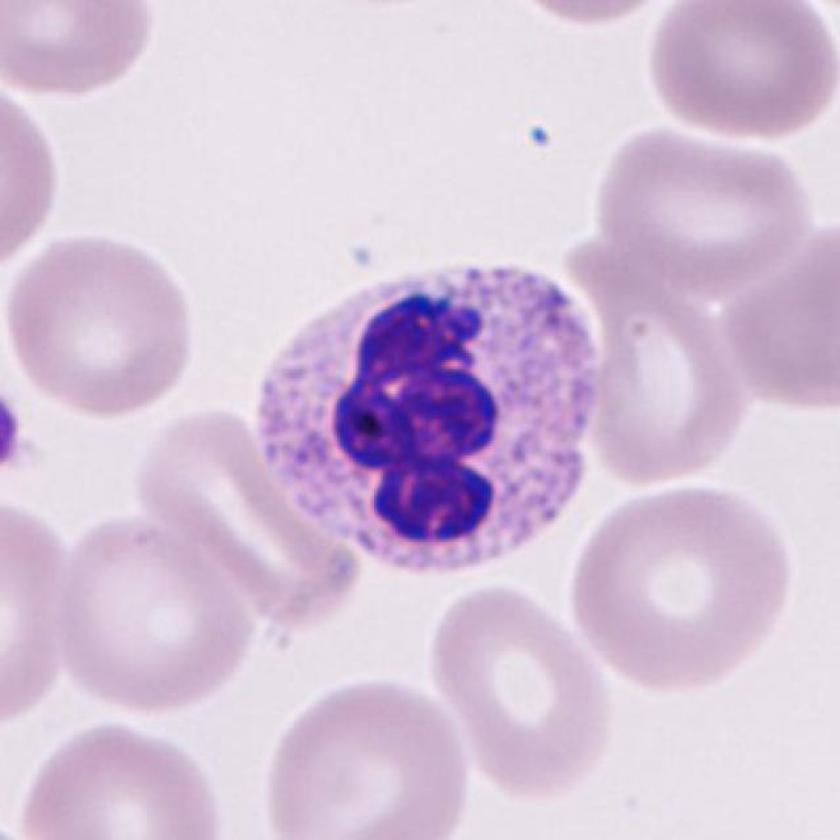neutrophil: (255, 267, 612, 572)
